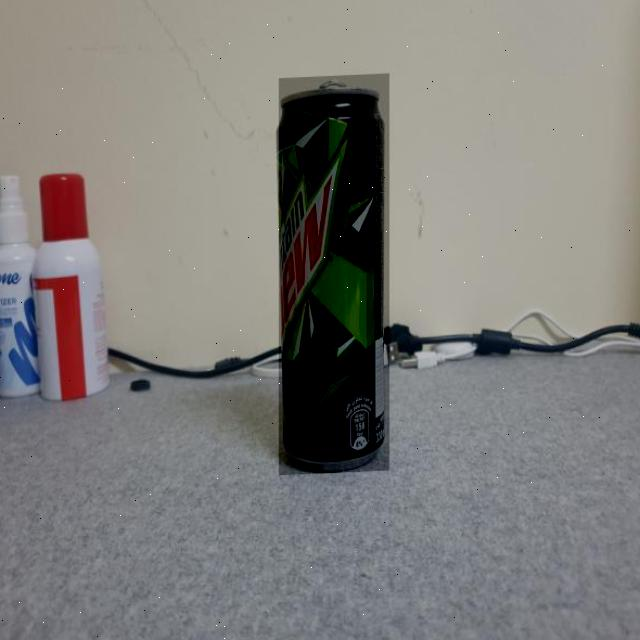trash: (266, 74, 404, 472)
